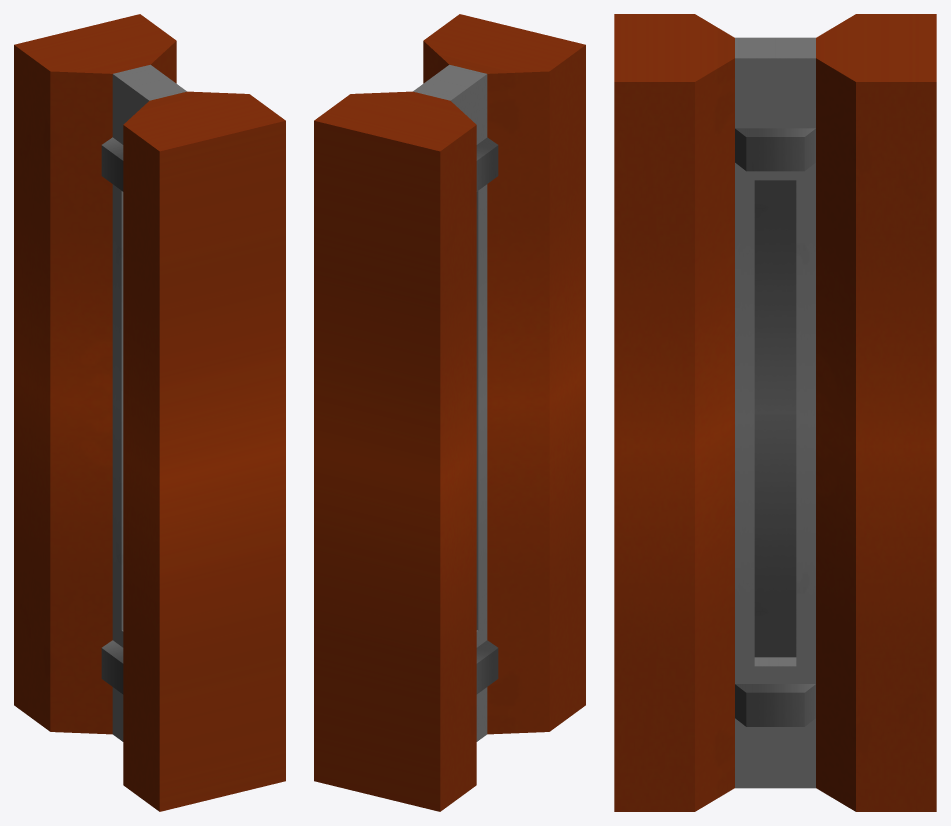
File: Column.fbx
The picture shows the model from 3 angles, left to right: view 1: azimuth 30°, elevation 25°; view 2: azimuth 150°, elevation 25°; view 3: azimuth 270°, elevation 25°; orthographic projection. The views are drawn at different scales.
Visible parts, largest first — view 1: Cube; view 2: Cube; view 3: Cube.
Part boxes in pixels (left/top/right/bottom): Cube: left=14, top=14, right=285, bottom=811; Cube: left=314, top=14, right=585, bottom=811; Cube: left=614, top=14, right=936, bottom=811.
Bounding box in the file's own units: 200 × 1000 × 400.
